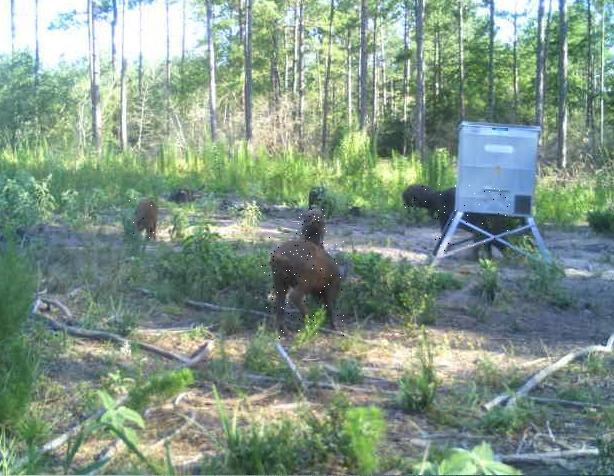Hog: (260, 237, 343, 339), (435, 185, 510, 254), (128, 198, 158, 242), (295, 209, 328, 246), (401, 182, 435, 209)
